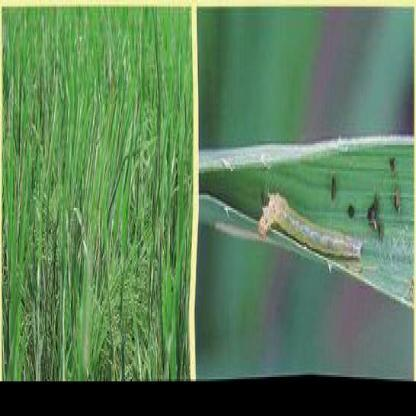leaf-folder: (252, 170, 374, 298)
